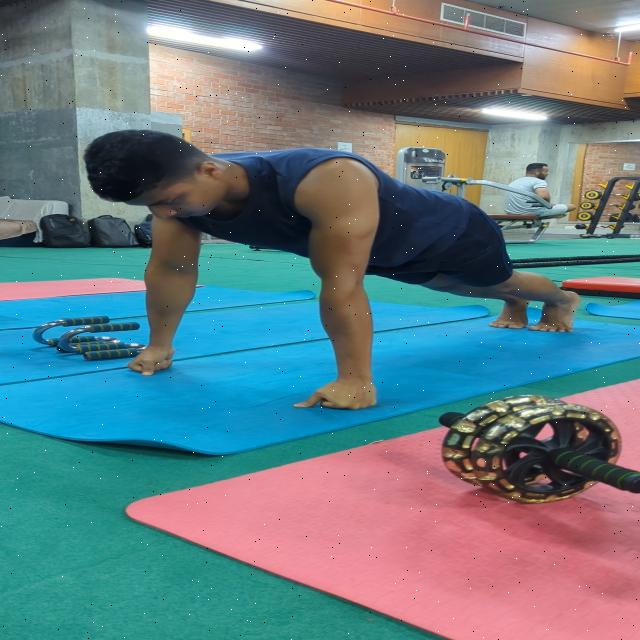Normal_PushUps: (74, 127, 590, 420)
